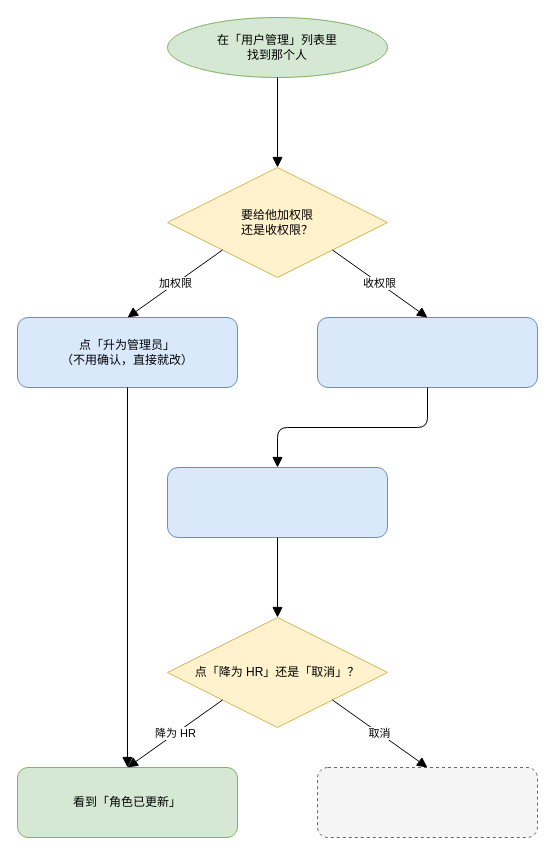
Some shapes in this 555 by 855 pixel diagram are drawn without their labels. The shapes that lost their labels are listed below. From the top down, each one's box as (x1, y1, x2, y2) in pixels, then its label:
(316, 316, 538, 388): 点「降为 HR」
(166, 466, 388, 538): 弹出确认： 「将『某某』降为 HR？」
(316, 766, 538, 838): 点「取消」， 角色保持原样
